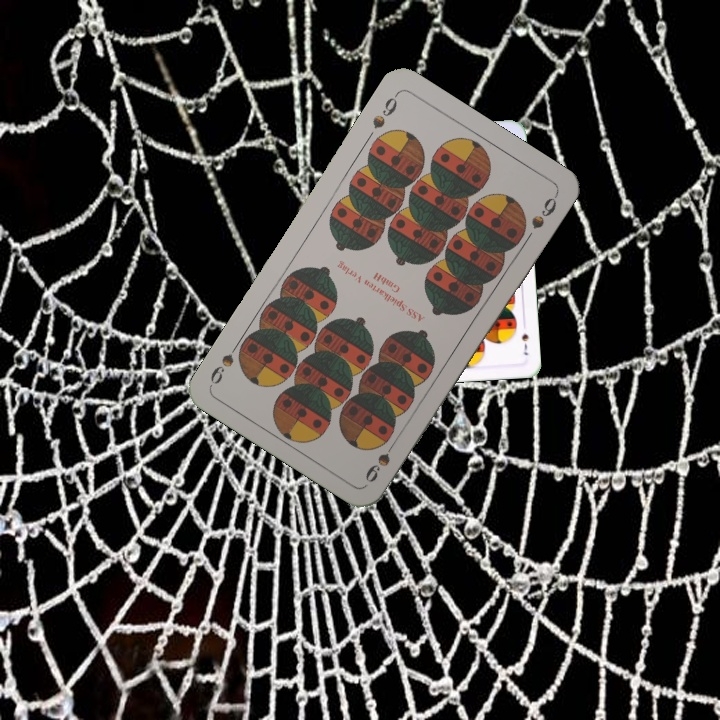S7: (518, 329, 531, 358)
S9: (361, 433, 401, 486), (368, 89, 401, 132)
